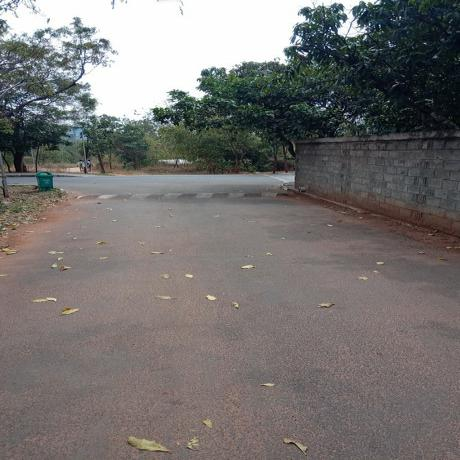Speed Bump: (63, 190, 297, 200)
